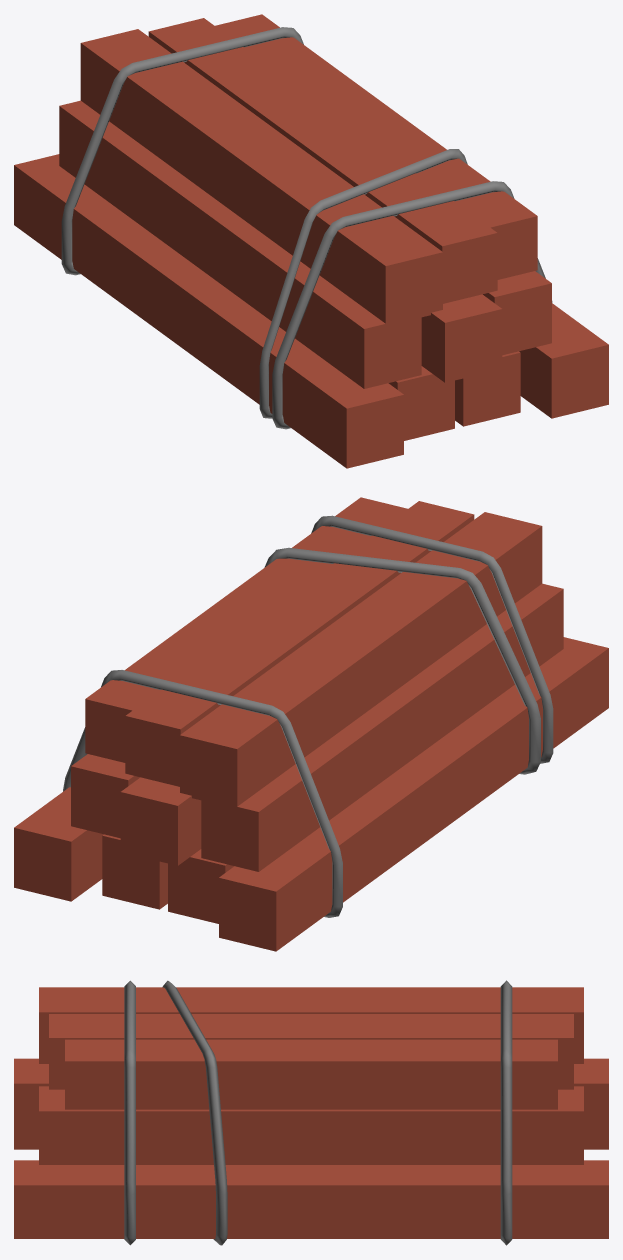
Rendered from SM_woodenbeams.fbx.
3 renders of one model, top to bottom at view 1: azimuth 30°, elevation 25°; view 2: azimuth 150°, elevation 25°; view 3: azimuth 270°, elevation 25°, orthographic. The views are drawn at different scales.
Visible parts, largest first — view 1: Box363; view 2: Box363; view 3: Box363.
Boxes of the visible parts, x1,y1,x2,y2 form: Box363: (14, 14, 608, 468); Box363: (14, 497, 608, 951); Box363: (14, 980, 608, 1245).
Bounding box in the file's own units: 38.24 × 25.91 × 78.7.
